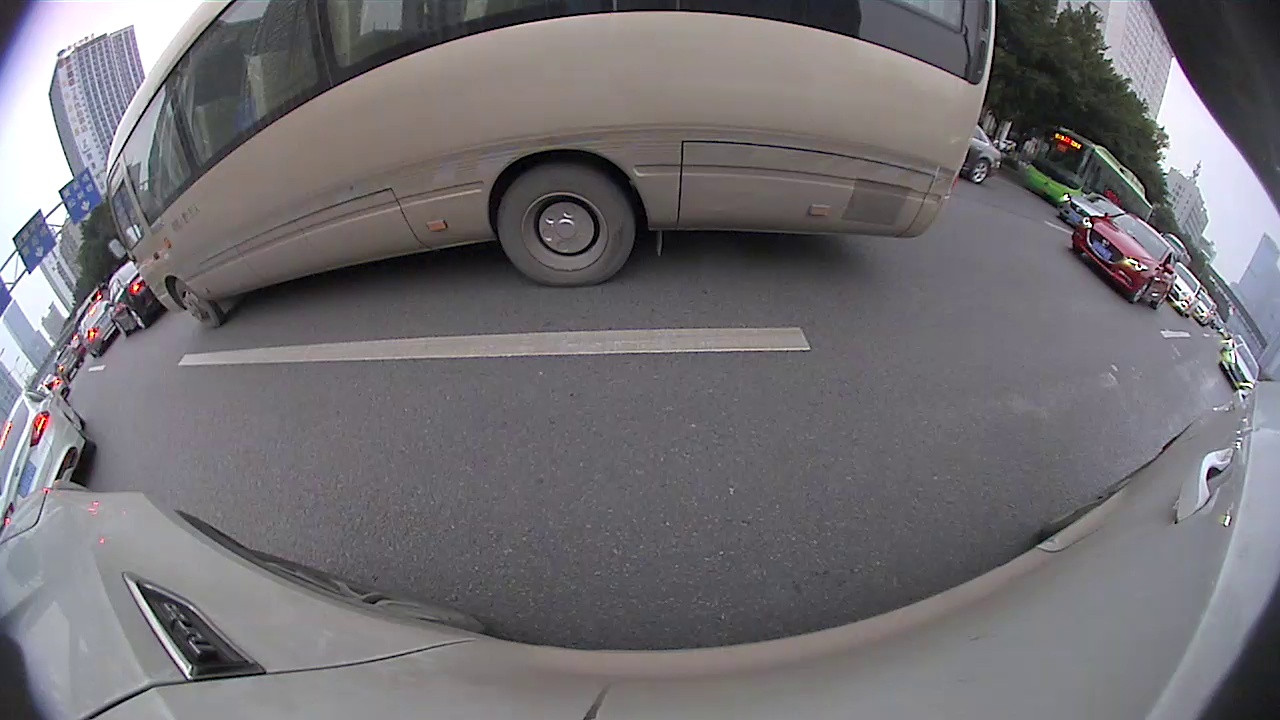bus: (102, 2, 995, 327), (1022, 129, 1153, 219)
car: (2, 397, 94, 536), (1072, 214, 1177, 309), (106, 260, 157, 335), (1058, 194, 1128, 232), (74, 300, 118, 357), (959, 126, 1002, 183)
front: (172, 279, 223, 323), (1129, 279, 1153, 302), (113, 321, 128, 336)
rear: (495, 167, 638, 283), (970, 158, 987, 183), (128, 308, 147, 330)
